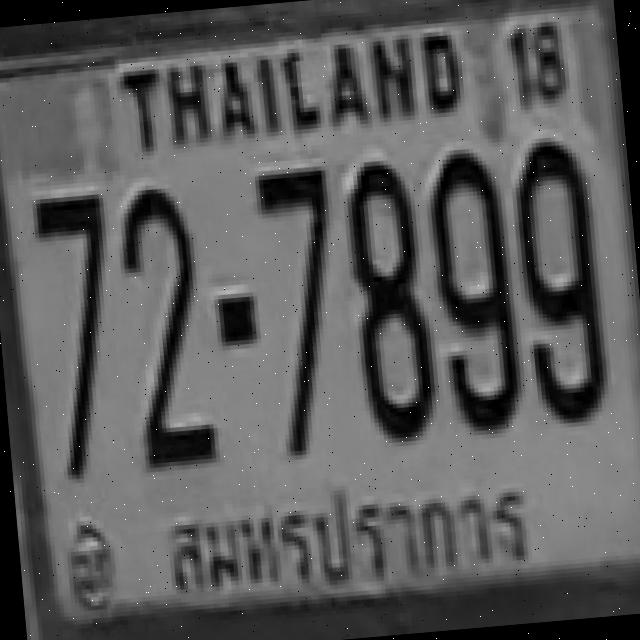0: (508, 136, 598, 322), (422, 146, 511, 327), (114, 182, 198, 362), (339, 154, 418, 300)
7: (250, 164, 338, 332), (30, 189, 114, 353)
8: (340, 157, 434, 440)
9: (425, 182, 520, 431), (427, 210, 520, 429), (514, 215, 606, 421)
SamutPrakan: (137, 465, 560, 612)
